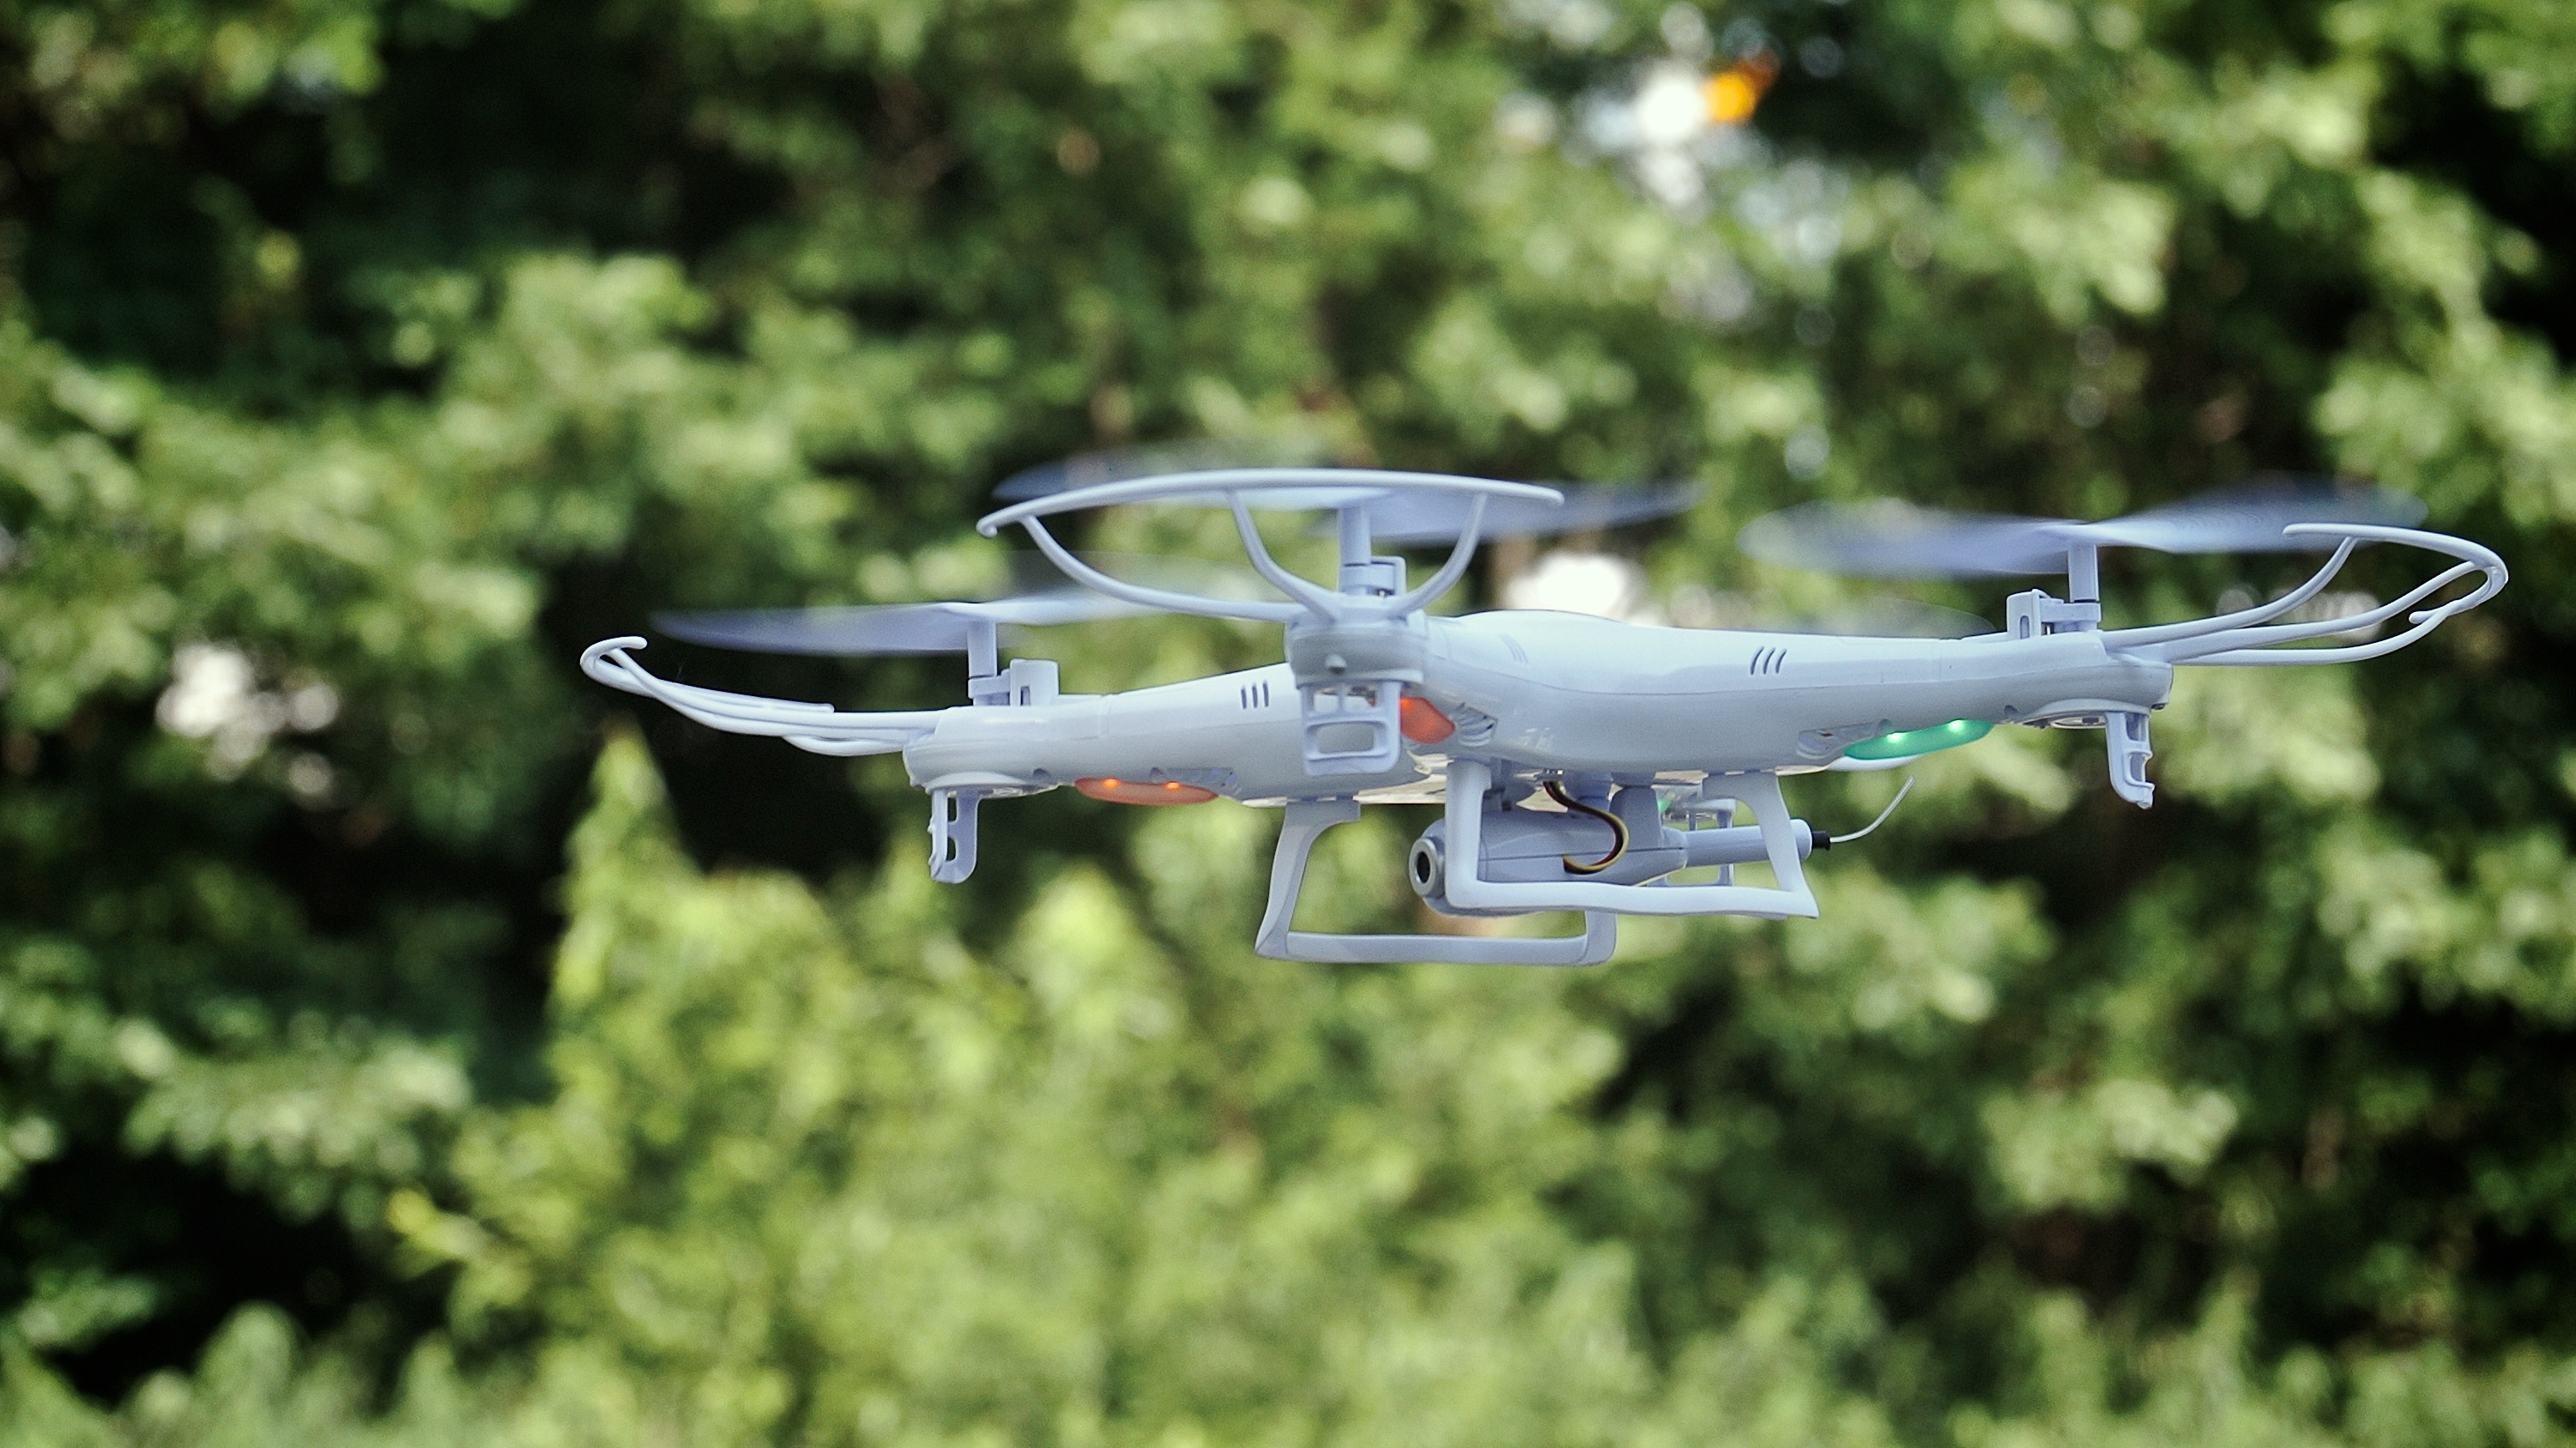drone: (568, 428, 2521, 986)
